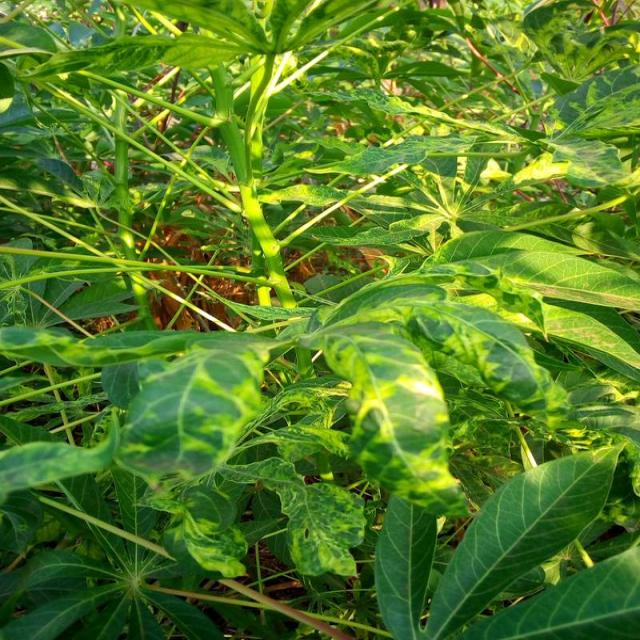cassava leaf: (1, 0, 638, 638), (422, 439, 626, 638), (308, 319, 470, 517), (113, 341, 266, 480)
